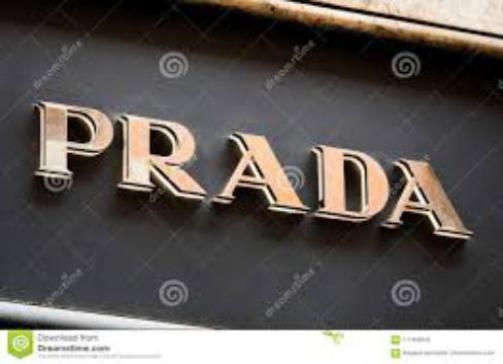PRADA: (25, 81, 473, 254)
